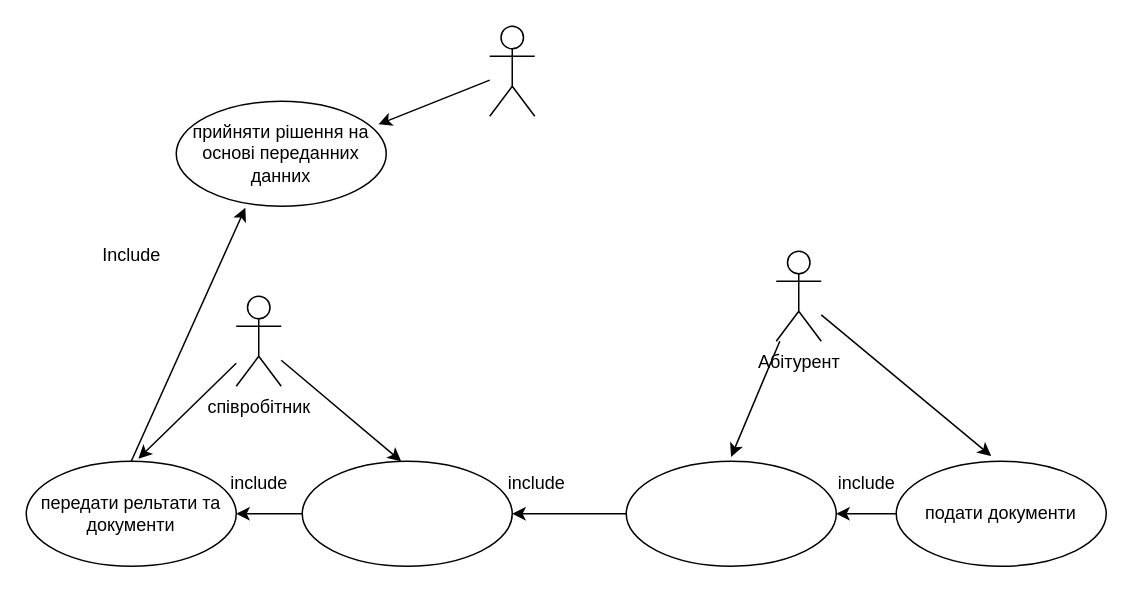
This 1133x593 diagram has some shape labels left out. The box of each missing label's shape, as (x1, y1, x2, y2) in pixels:
Керiвник: (488, 25, 535, 116)
перевiрити документи та результат: (301, 460, 512, 566)
сдати вступний iспит: (625, 460, 836, 566)
